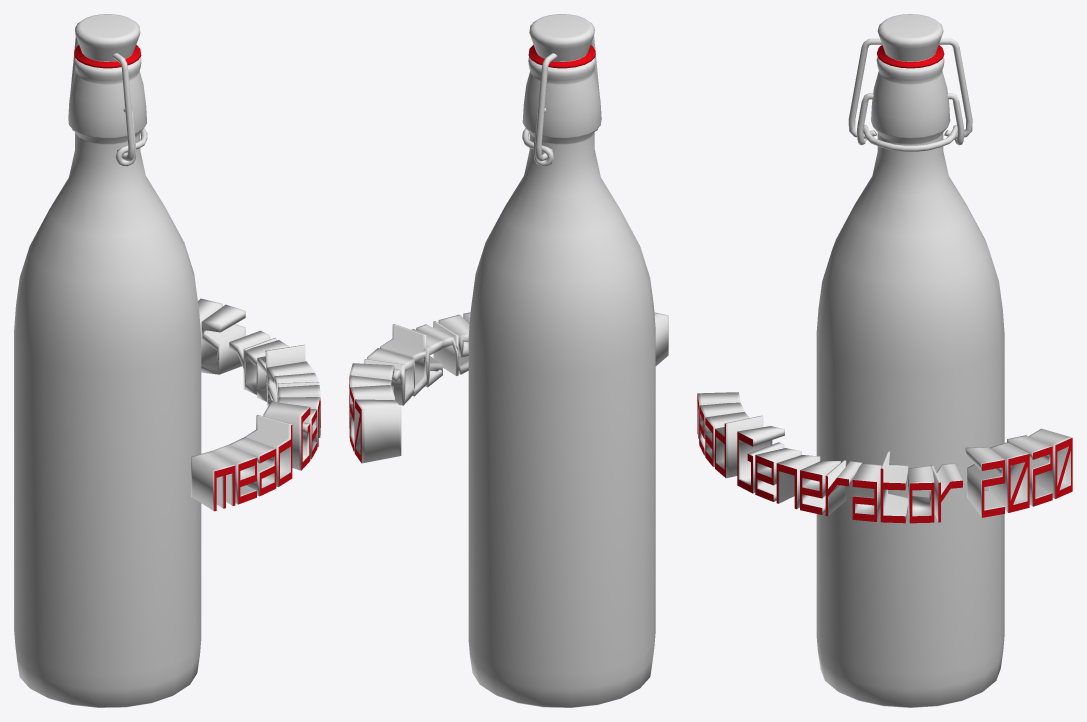
The model's file is simapullo.gltf.
3 renders of one model, left to right at view 1: azimuth 30°, elevation 25°; view 2: azimuth 150°, elevation 25°; view 3: azimuth 270°, elevation 25°, orthographic.
Parts seen in each view (by area): view 1: pullo, teksti, korkki; view 2: pullo, teksti, korkki; view 3: pullo, teksti, korkki.
Boxes of the visible parts, bbox=[...] form: pullo: bbox=[14, 56, 201, 707]; teksti: bbox=[191, 298, 320, 511]; korkki: bbox=[70, 14, 147, 166]; pullo: bbox=[468, 57, 655, 707]; teksti: bbox=[349, 312, 668, 463]; korkki: bbox=[522, 14, 599, 166]; pullo: bbox=[816, 57, 1004, 707]; teksti: bbox=[697, 392, 1072, 523]; korkki: bbox=[848, 14, 972, 151].
Bounding box in the file's own units: 14.05 × 32.53 × 17.16.
